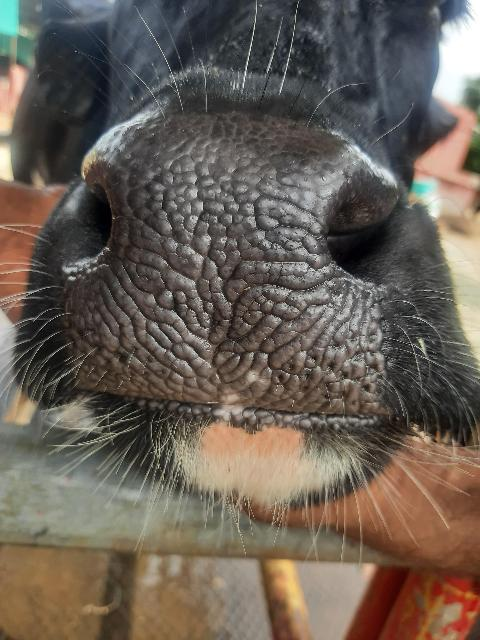Muzzle: (68, 114, 384, 420)
